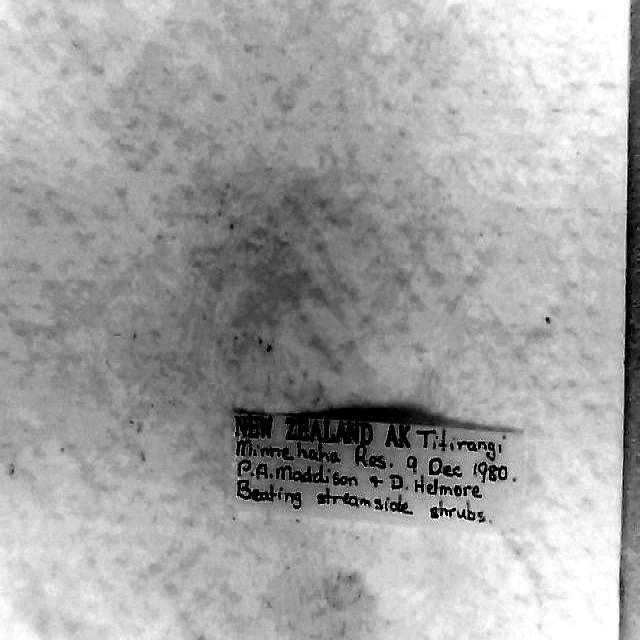mixed_label: (234, 415, 522, 523)
